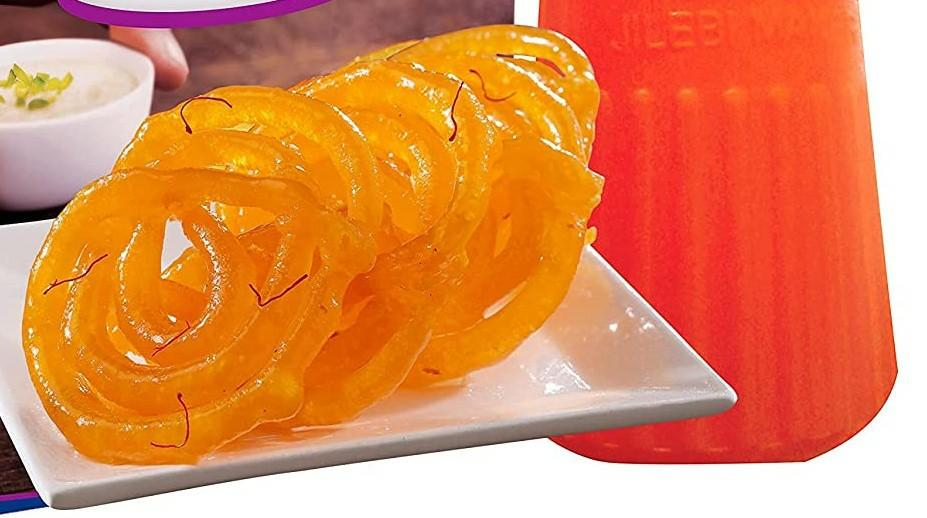Jalebi: (21, 24, 605, 465)
